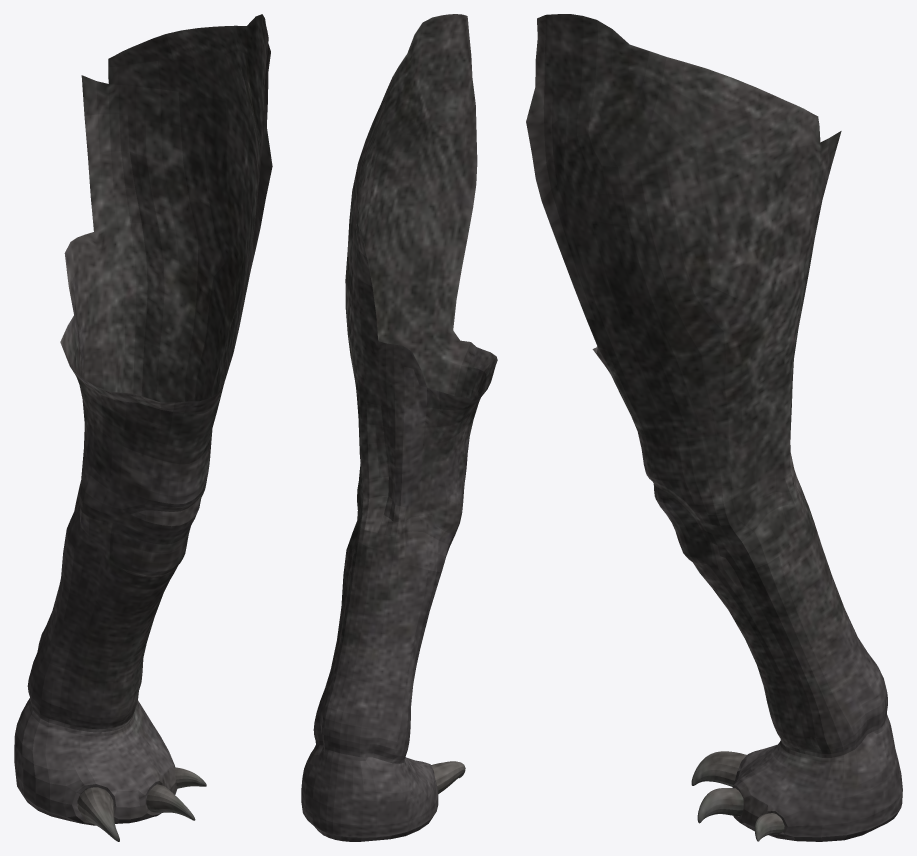
Rendered from DinoLargoMusloIzq.obj.
3 views of the same model, side by side, from view 1: azimuth 30°, elevation 25°; view 2: azimuth 150°, elevation 25°; view 3: azimuth 270°, elevation 25° (orthographic). The views are drawn at different scales.
Parts seen in each view (by area): view 1: musloIzq; view 2: musloIzq; view 3: musloIzq.
Part boxes in pixels (x1,y1,x2,y2): musloIzq: (14, 14, 272, 841); musloIzq: (301, 14, 497, 841); musloIzq: (526, 14, 902, 841).
Size of the model in its own units: 0.8615 by 4.54 by 1.89.
Materials: 2 (2 with a texture image).
